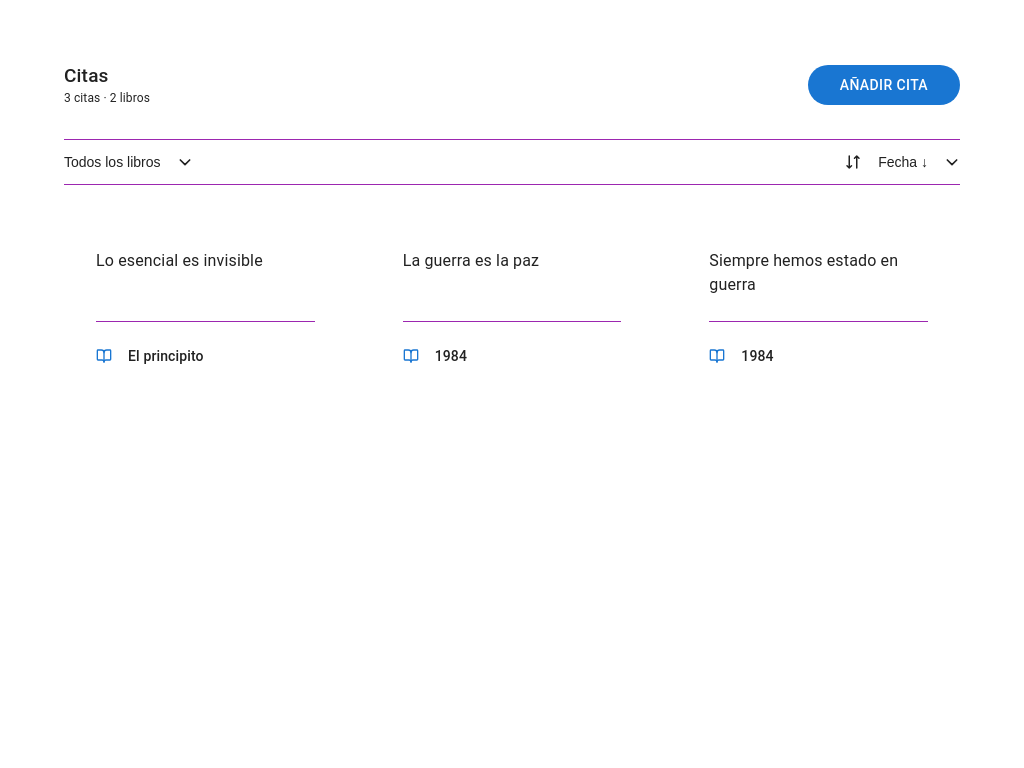
Test: Given the quotes page › When the user filters by a book › Then the sheet lists the books with their quote count and only that book's quotes remain
Click the button "Todos los libros": [128, 162] box [48,140,208,184]
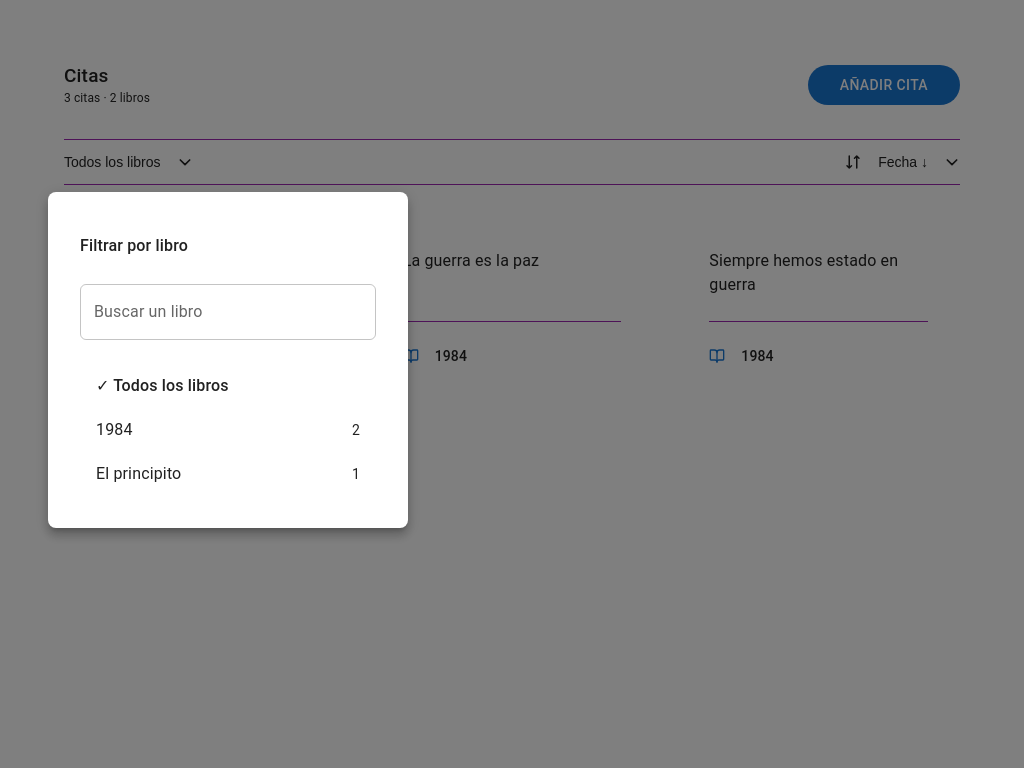
Now the text "2" is shown, box [352,420,360,440]
Click the button "1984 2": [114, 430] box [80,408,376,452]
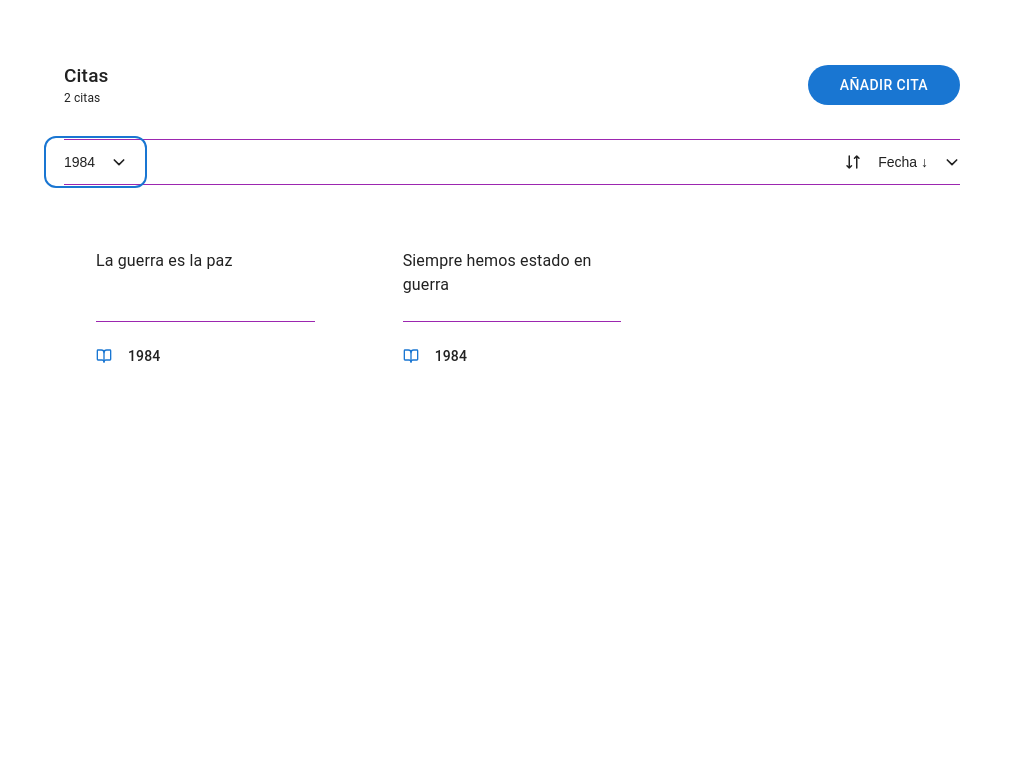
Expected: the text "La guerra es la paz" is shown, [96,251,232,270]
Now the link "Lo esencial es invisible" is gone
Now the button "1984" is shown, box [48,140,143,184]
